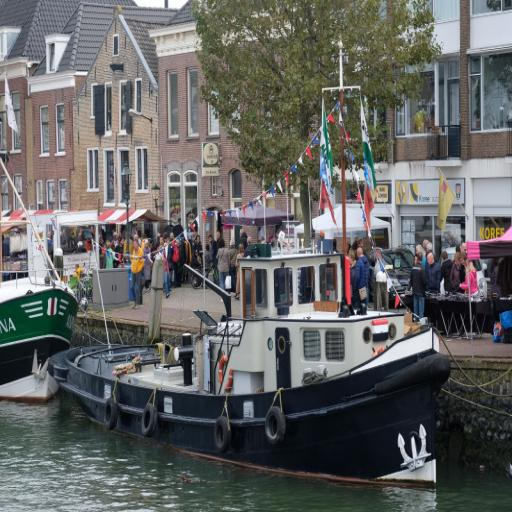tugboat: (45, 170, 450, 497)
